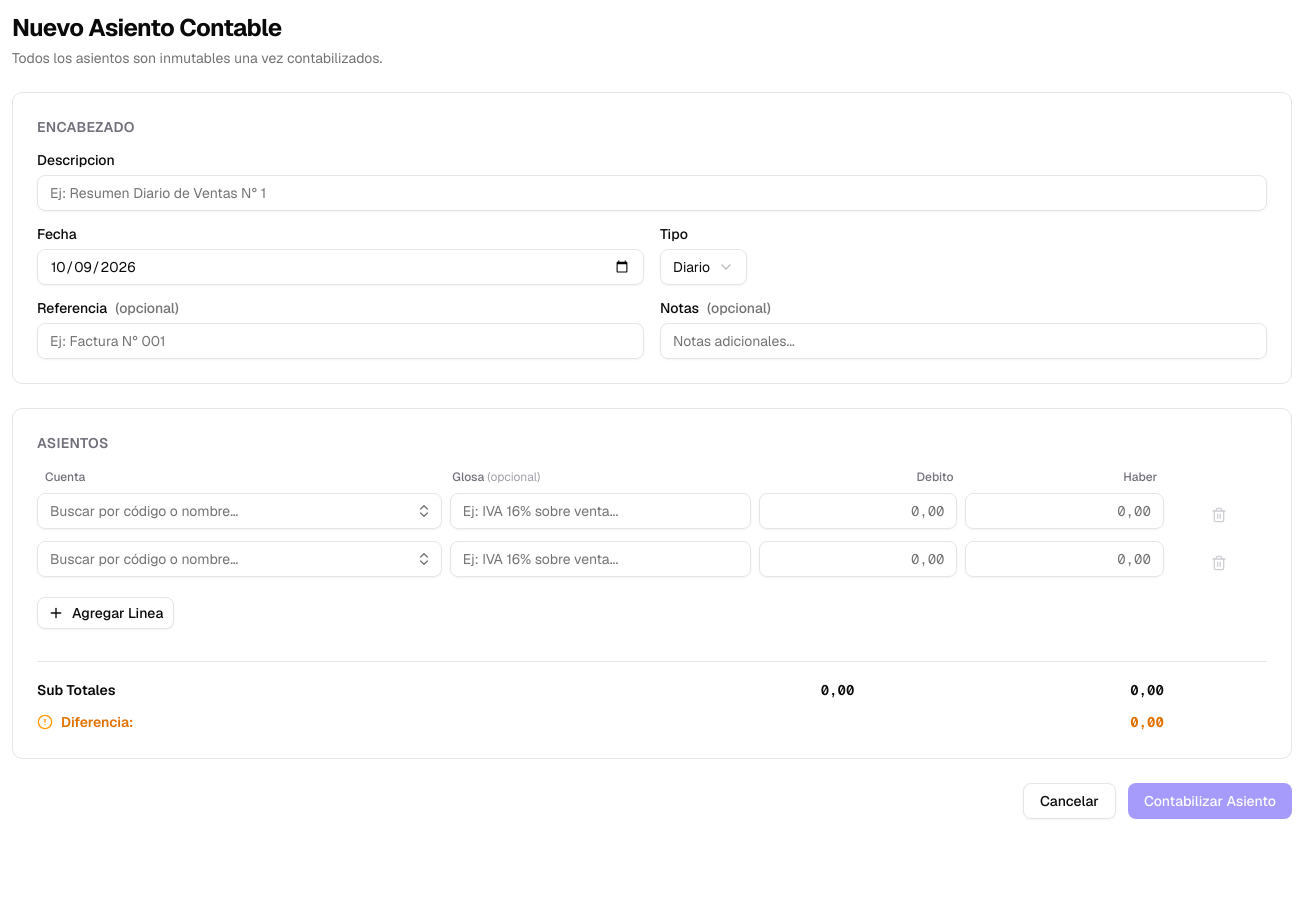
it: JournalEntryForm — selector de cuenta buscable (SPEC-012 CA-16) › CA-16 (c): la lista ofrece los títulos como encabezados pero solo las cuentas de movimiento como opciones
Focus the 1st dropdown with placeholder "Buscar por código o nombre…" at coordinates (239, 511), box x1=37 y1=493 x2=442 y2=529
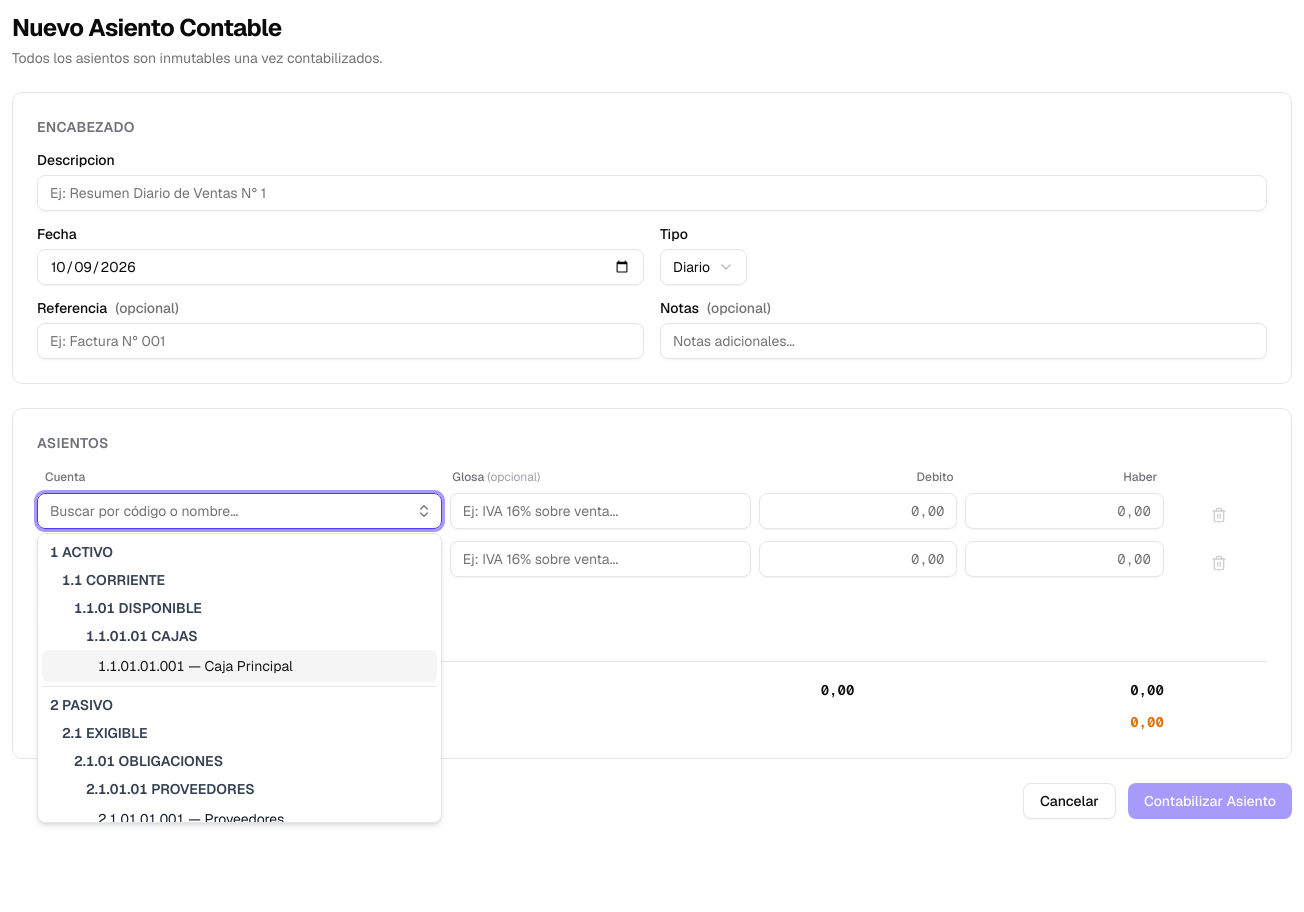
Expected: the options read "1.1.01.01.001 — Caja Principal", "2.1.01.01.001 — Proveedores", in this order, x1=42 y1=650 x2=437 y2=682; x1=98 y1=810 x2=284 y2=822
